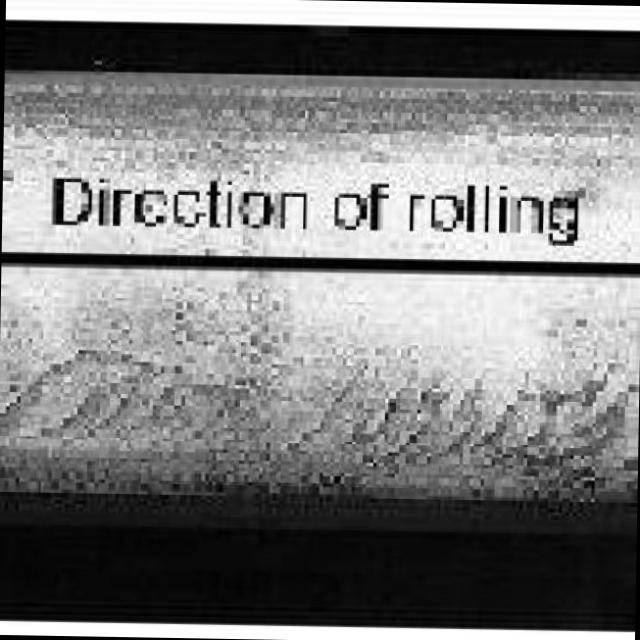defective: (0, 57, 640, 554)
